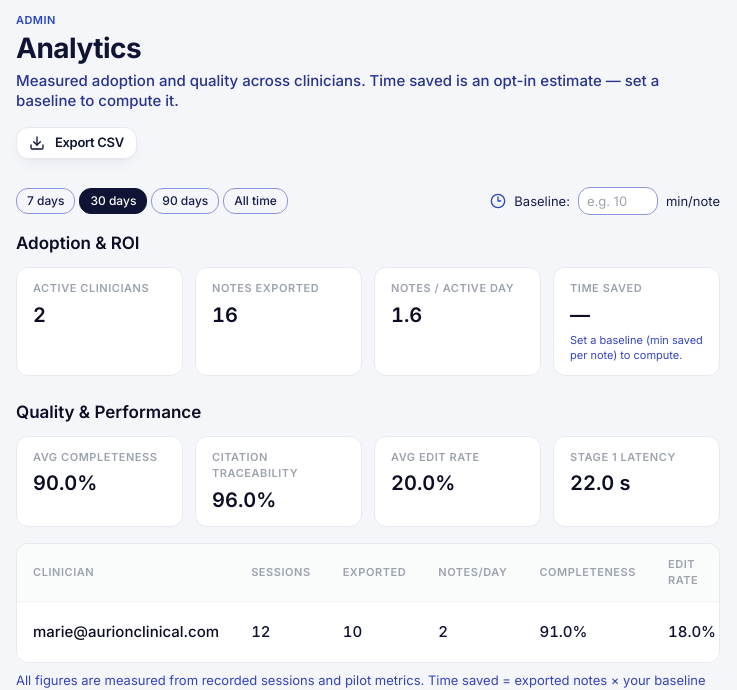
Scenario: AdminAnalyticsPage › typing a baseline refetches with it and shows the assumption
The width and height of the screenshot is (737, 690).
Type "10" into the number field with test id "baseline-input". click: (618, 201)
box: [578, 187, 658, 215]
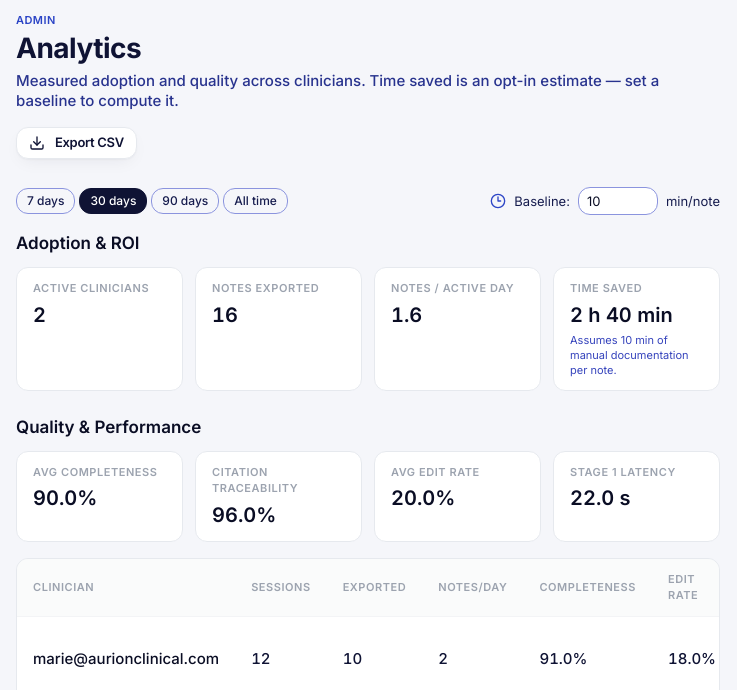
expect the text with test id "analytics-stat-timeSaved" reads "2 h 40 min": met, box [570, 302, 673, 326]
expect the text "Assumes 10 min of manual documentation per note." is shown: met, box [570, 332, 703, 378]
